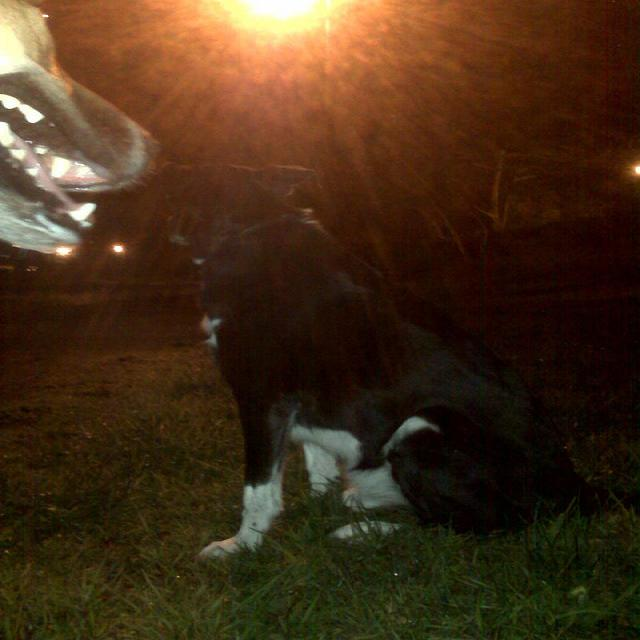Dog: (160, 195, 518, 566)
